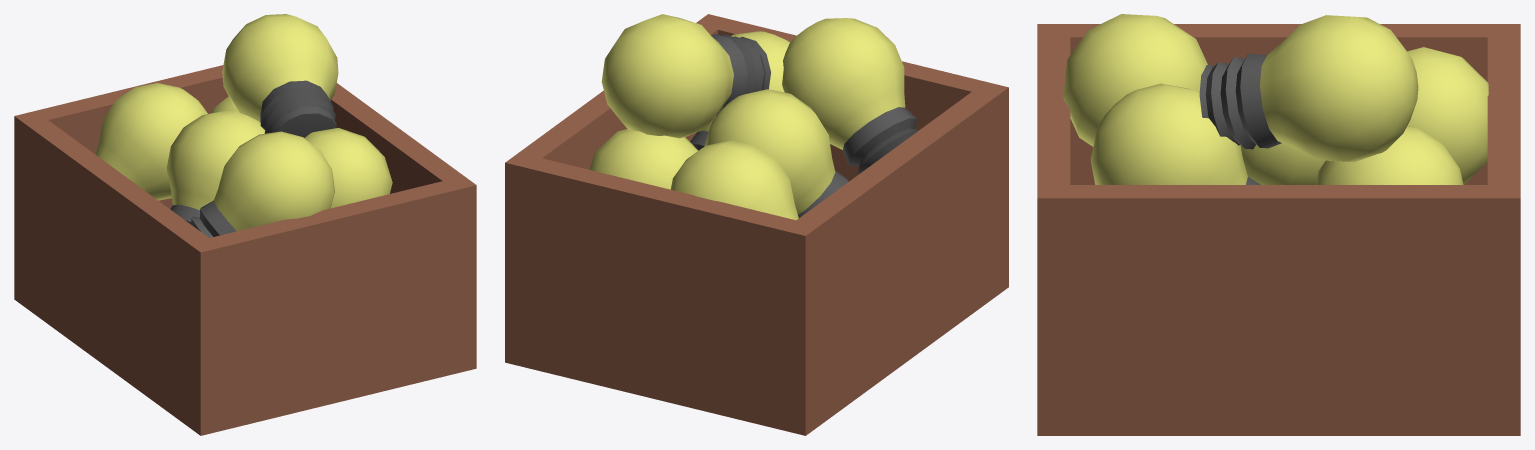
Rendered from luces_corregido_v2.fbx.
3 renders of one model, left to right at view 1: azimuth 30°, elevation 25°; view 2: azimuth 150°, elevation 25°; view 3: azimuth 270°, elevation 25°, orthographic. The views are drawn at different scales.
Parts seen in each view (by area): view 1: cajas_luces; view 2: cajas_luces; view 3: cajas_luces.
Boxes of the visible parts, <box> form: cajas_luces: <box>14,14,476,435</box>; cajas_luces: <box>505,14,1008,435</box>; cajas_luces: <box>1037,14,1520,435</box>.
Bounding box in the file's own units: 0.7421 × 0.7246 × 0.8685.
